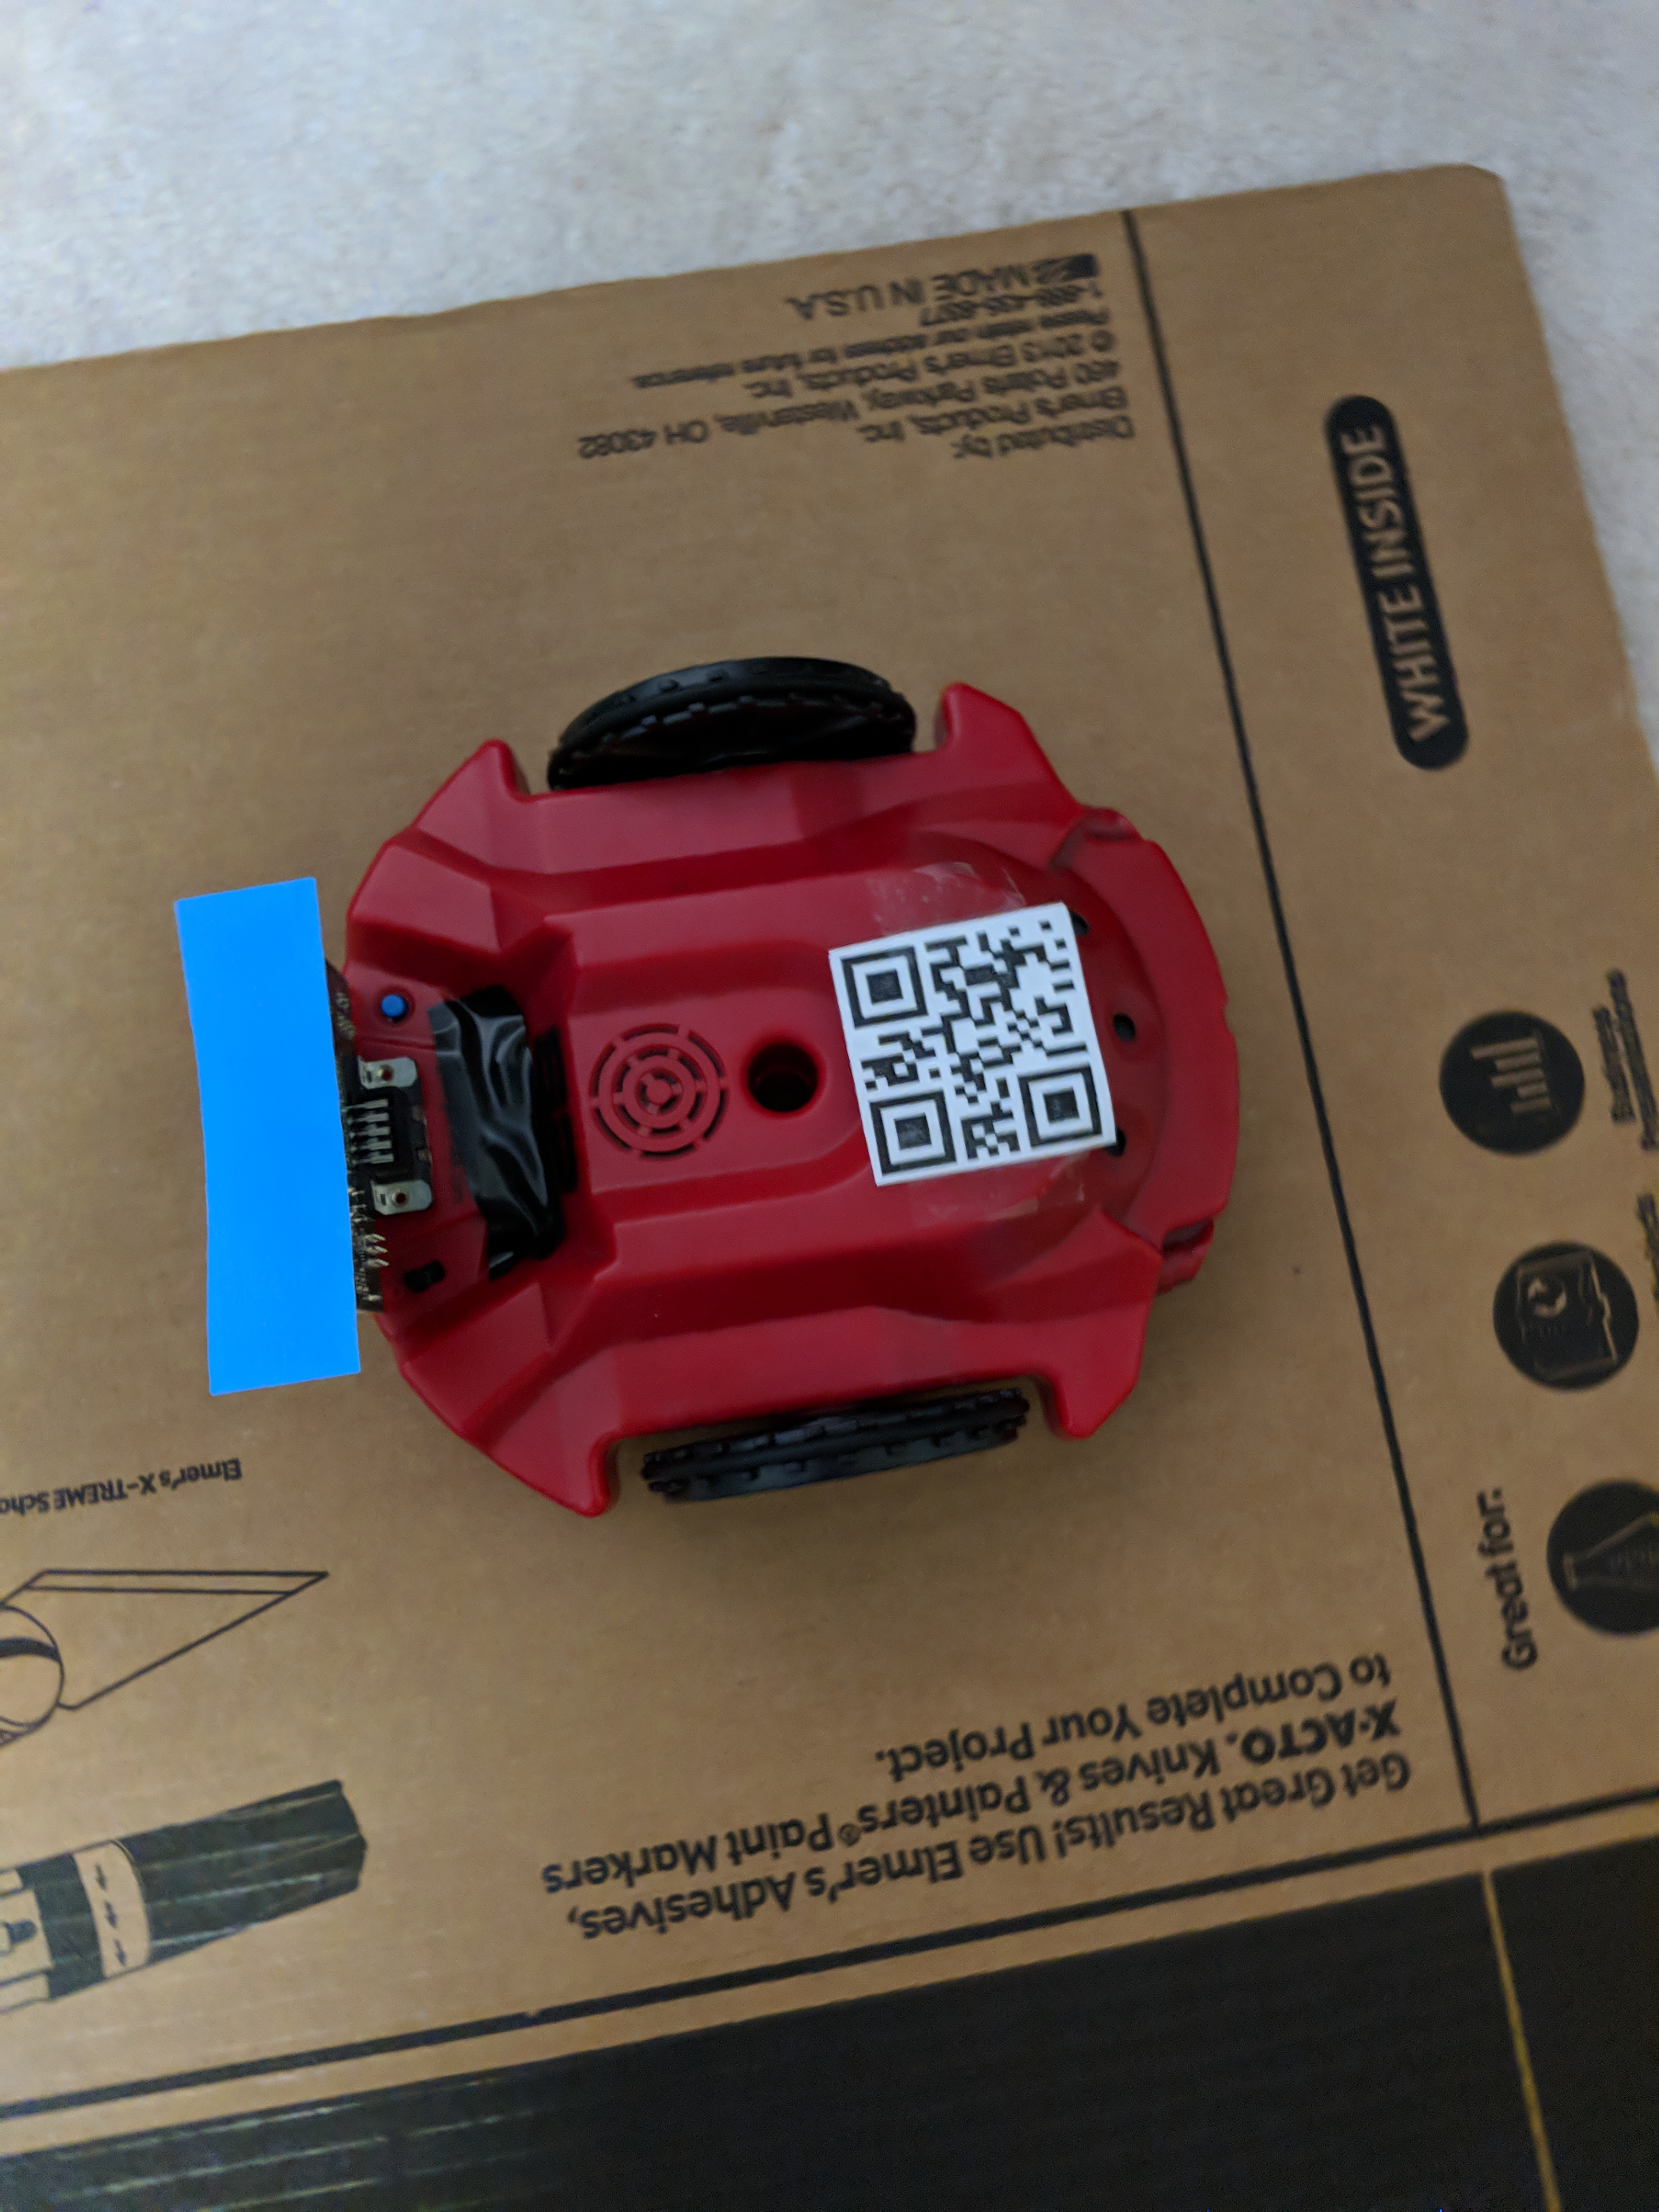chassis: (132, 644, 1279, 1505)
qr: (784, 888, 1143, 1212)
